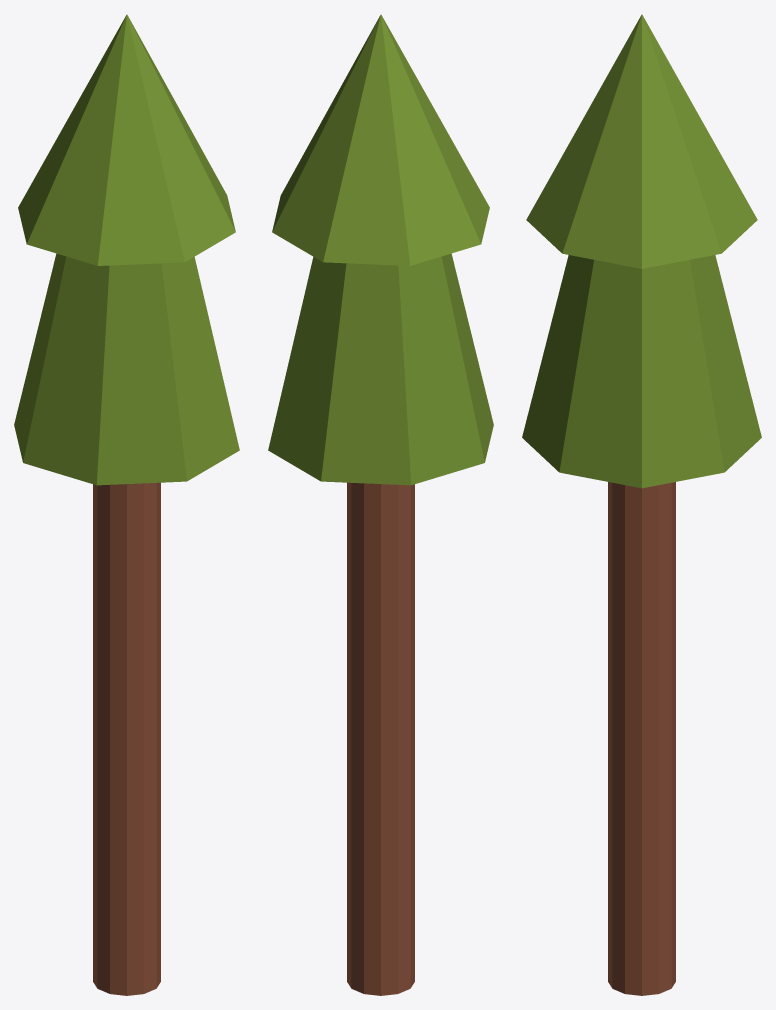
File: Tree_21_autumn.fbx
3 renders of one model, left to right at view 1: azimuth 30°, elevation 25°; view 2: azimuth 150°, elevation 25°; view 3: azimuth 270°, elevation 25°, orthographic.
Parts seen in each view (by area): view 1: Tree_21_autumn; view 2: Tree_21_autumn; view 3: Tree_21_autumn.
Boxes of the visible parts, box(x1,y1,x2,y2) form: Tree_21_autumn: box(14, 14, 239, 995); Tree_21_autumn: box(268, 14, 493, 995); Tree_21_autumn: box(522, 14, 761, 995).
Size of the model in its own units: 77.92 by 347 by 77.92.
